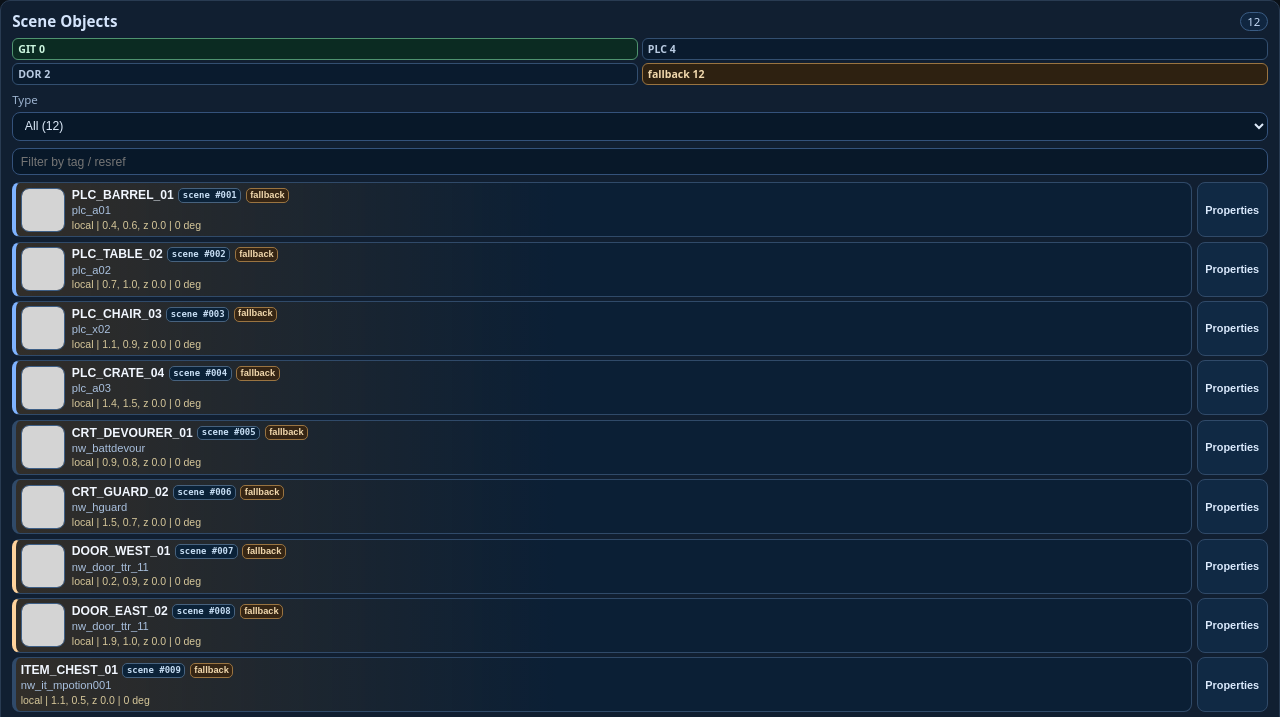
it: SceneObjectListPanel › filters rows by tag or resref
Type "caves" into the search field named "filter objects" at (640, 162), box [12,148,1268,176]
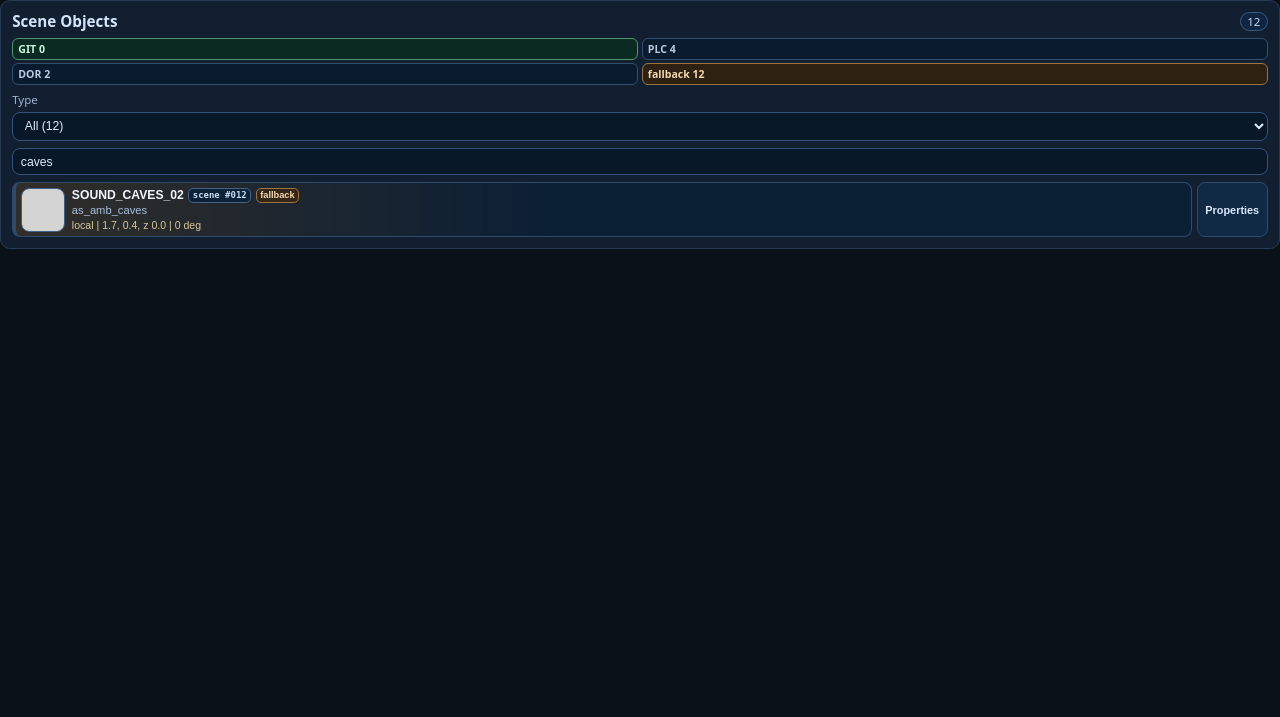
Expected: the text "SOUND_CAVES_02" is shown, [72,188,184,203]
Replace the text in the search field named "filter objects" with "nw_battdevour" at (640, 162), box [12,148,1268,176]
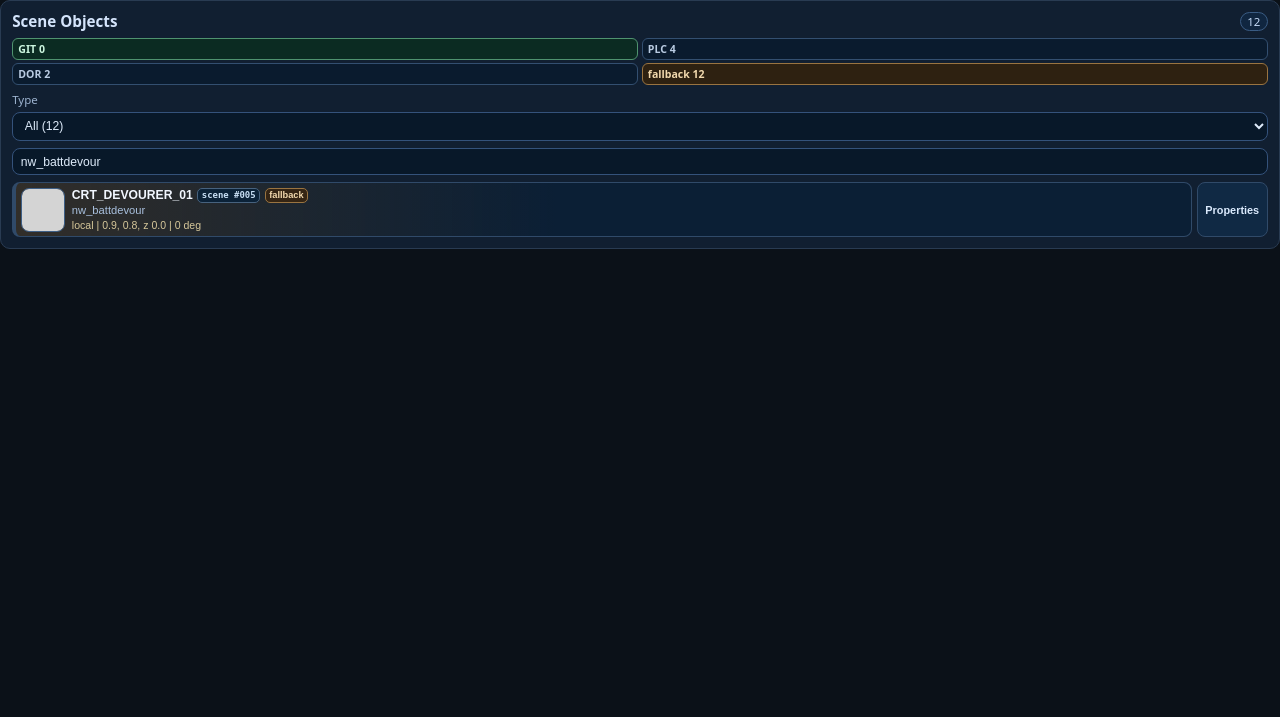
Expected: the button "PLC_BARREL_01" is not shown
Expected: the text "CRT_DEVOURER_01" is shown, [72,188,193,203]
